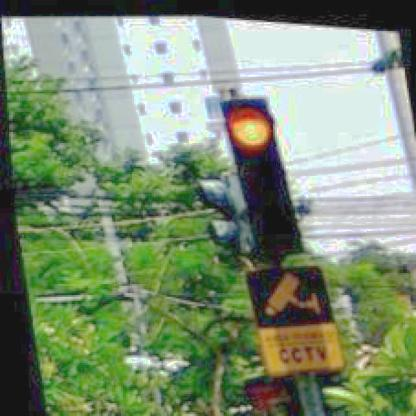Traffic Light -Red-: (217, 90, 304, 254)
